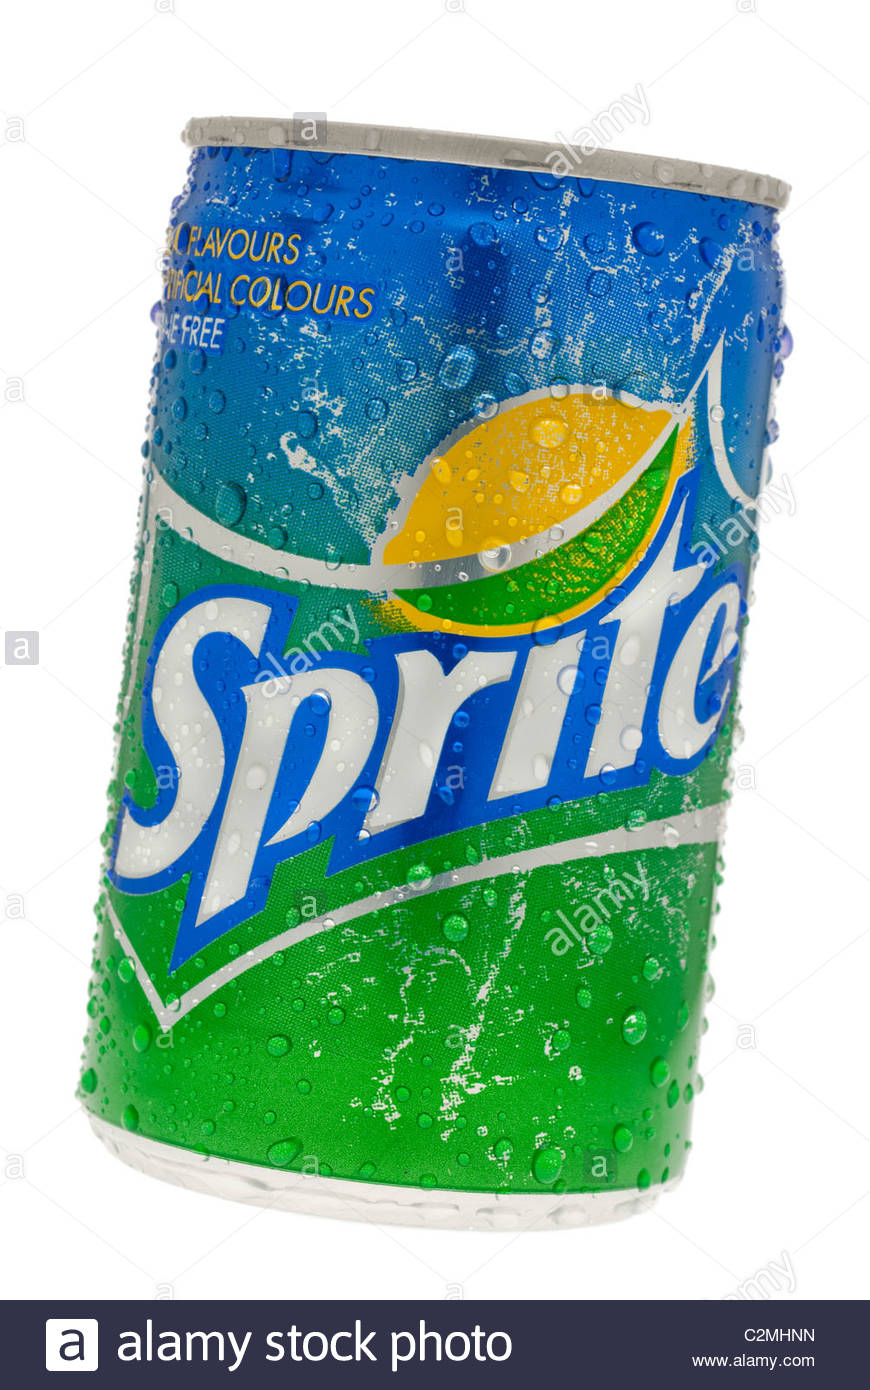sprite_can: (84, 110, 786, 1221)
